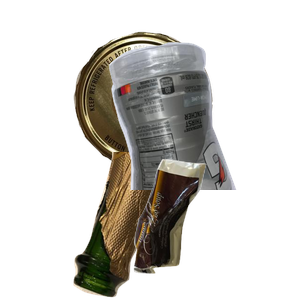glass: (71, 152, 260, 300)
metal: (71, 29, 276, 193)
plastic: (106, 40, 300, 220)
trash: (131, 157, 300, 300)
